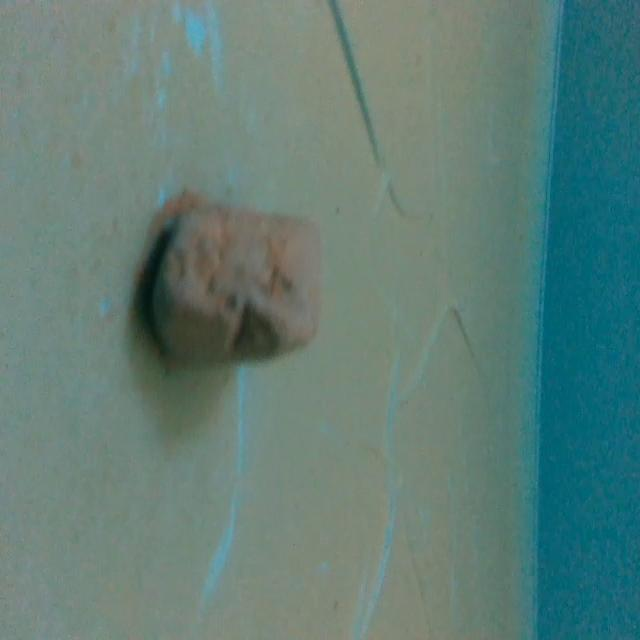rock: (141, 189, 328, 379)
